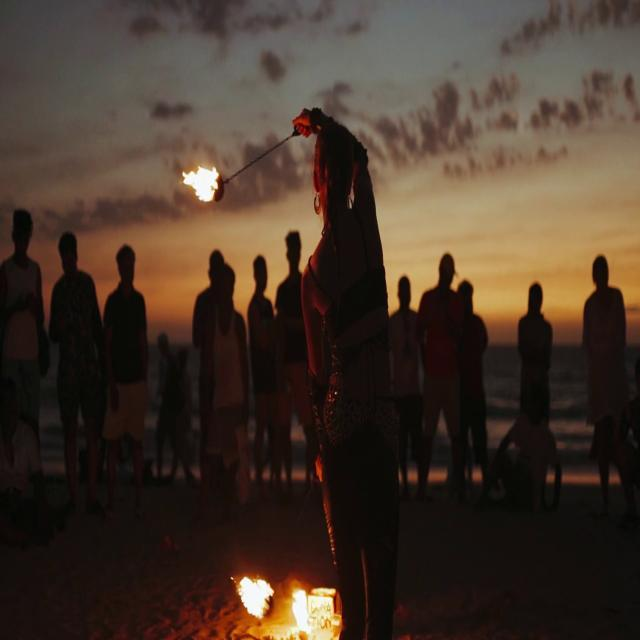Fire: (283, 582, 345, 640), (232, 564, 278, 620), (183, 157, 223, 207)
